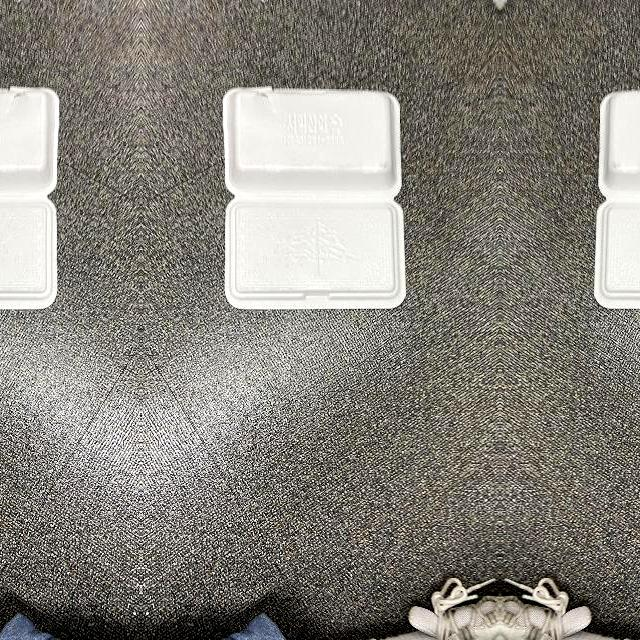Styrofoam: (220, 84, 406, 312), (221, 86, 405, 309), (0, 84, 60, 312), (0, 86, 59, 309), (592, 84, 640, 312), (593, 90, 640, 309)
